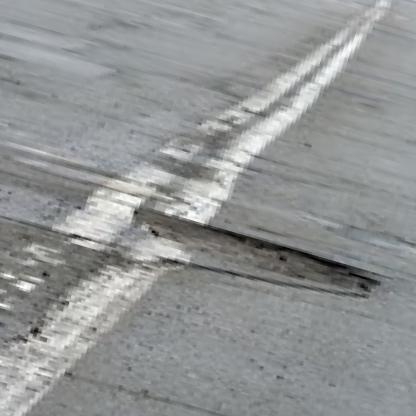pothole: (121, 203, 386, 313)
